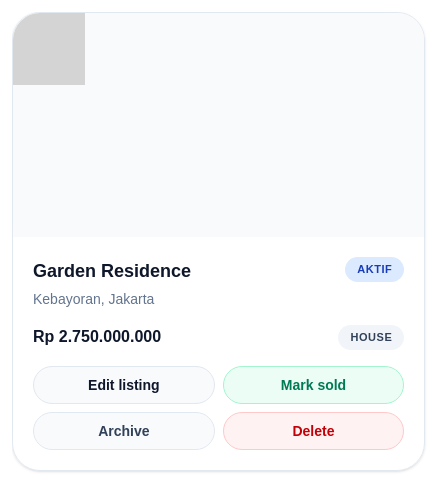
Scenario: DashboardListingsGrid › marks a listing as sold
This screenshot has width=442, height=489.
Click the button "Mark sold" at (314, 384), box left=223, top=366, right=404, bottom=404
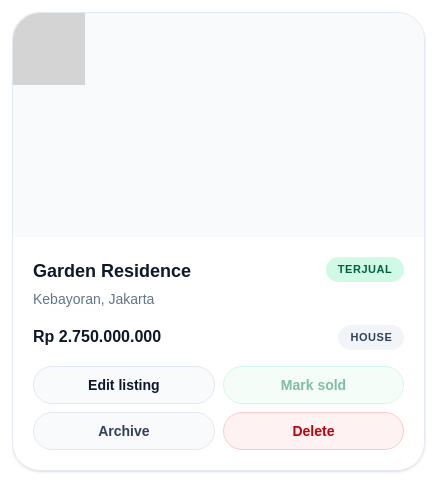
Check: the text "Terjual" is shown, box left=326, top=257, right=404, bottom=282
